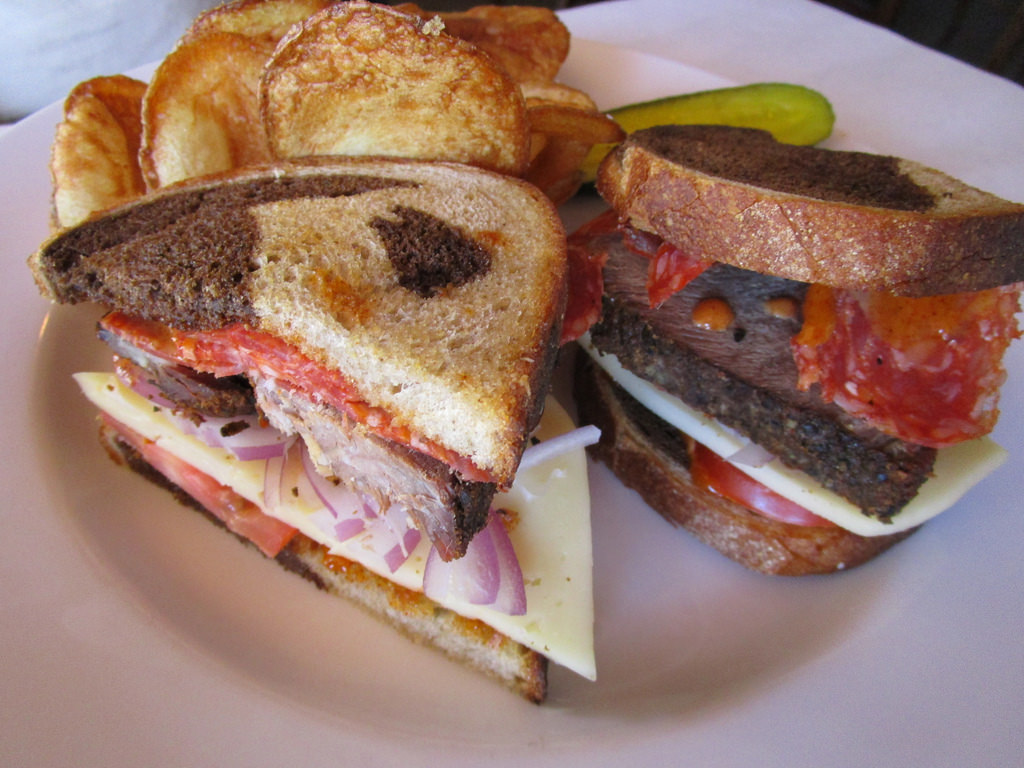boiled potatoes: (252, 17, 501, 155)
slice of bread: (117, 209, 575, 381)
